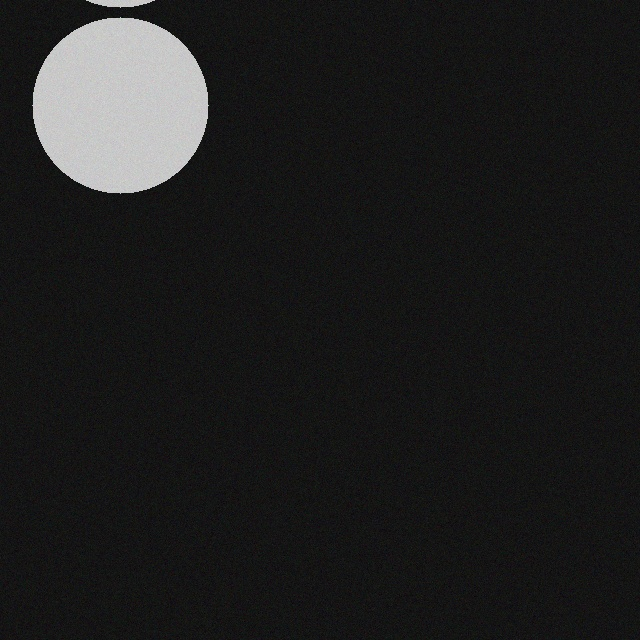circle: (43, 5, 219, 181)
